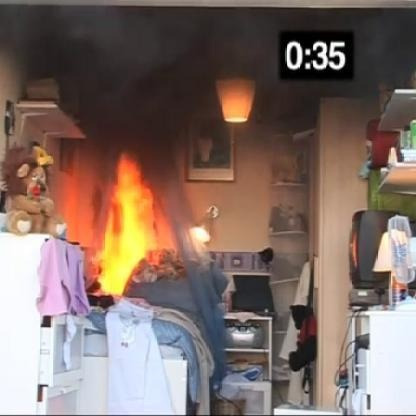fire: (63, 150, 171, 293)
